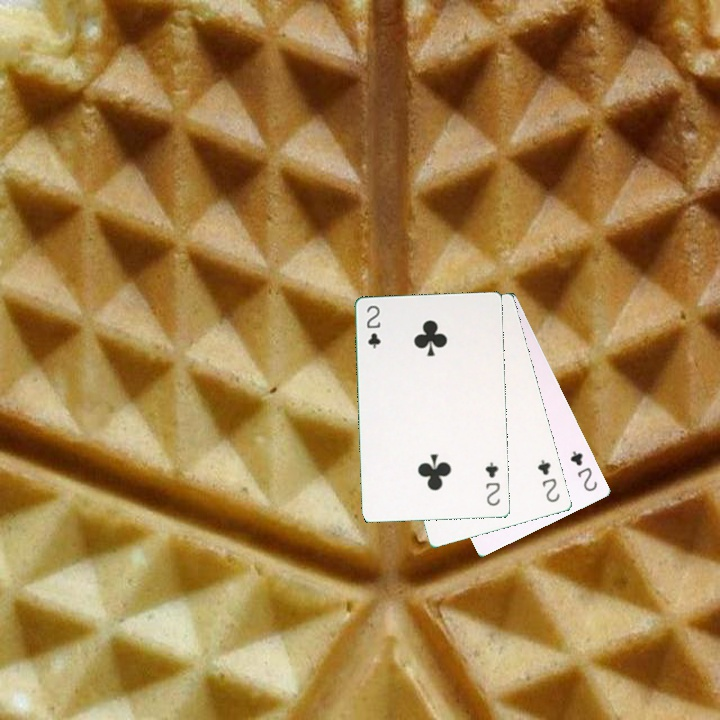2c: (566, 446, 600, 494), (534, 455, 562, 505), (481, 458, 502, 508), (362, 301, 383, 351)
